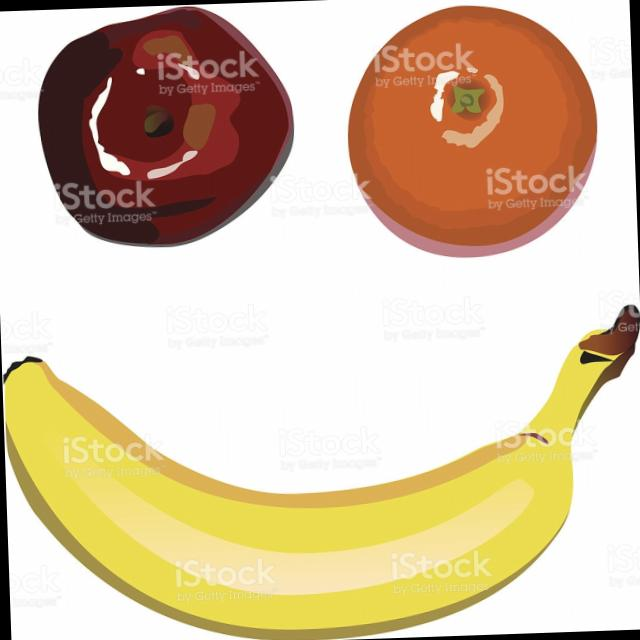apple: (40, 3, 302, 255)
banana: (2, 347, 596, 639)
orange: (333, 1, 595, 268)
